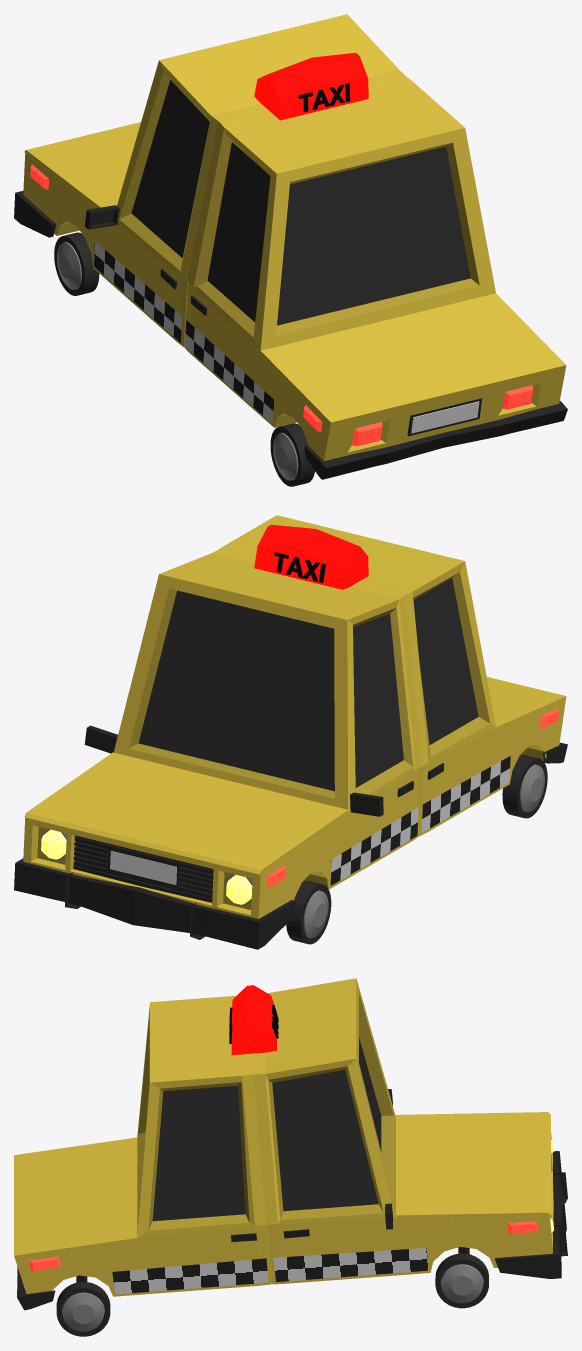
Rendered from Fullfilled_Taxi.glb.
3 renders of one model, top to bottom at view 1: azimuth 30°, elevation 25°; view 2: azimuth 150°, elevation 25°; view 3: azimuth 270°, elevation 25°, orthographic. The views are drawn at different scales.
Parts seen in each view (by area): view 1: Fullfilled_Taxi; view 2: Fullfilled_Taxi; view 3: Fullfilled_Taxi.
Part boxes in pixels (x1,y1,x2,y2): Fullfilled_Taxi: [14, 14, 567, 486]; Fullfilled_Taxi: [14, 515, 567, 949]; Fullfilled_Taxi: [14, 978, 567, 1336].
Bounding box in the file's own units: 0.9161 × 0.9669 × 1.7.
Materials: 12 (1 with a texture image).
